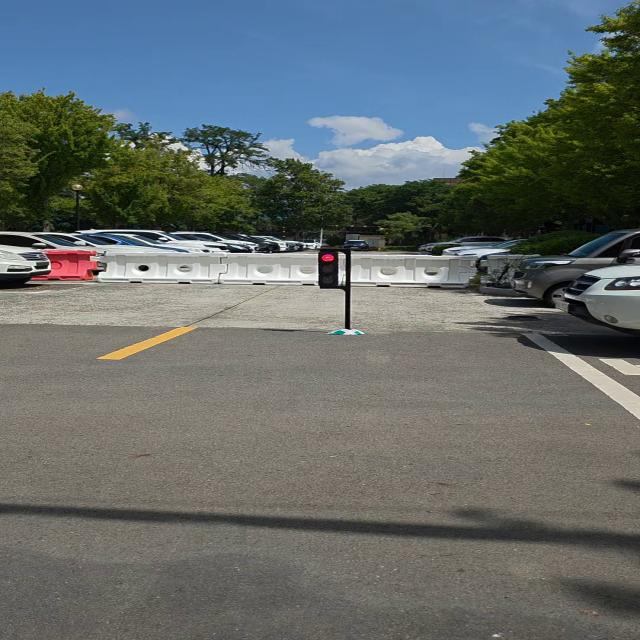red: (316, 250, 342, 290)
